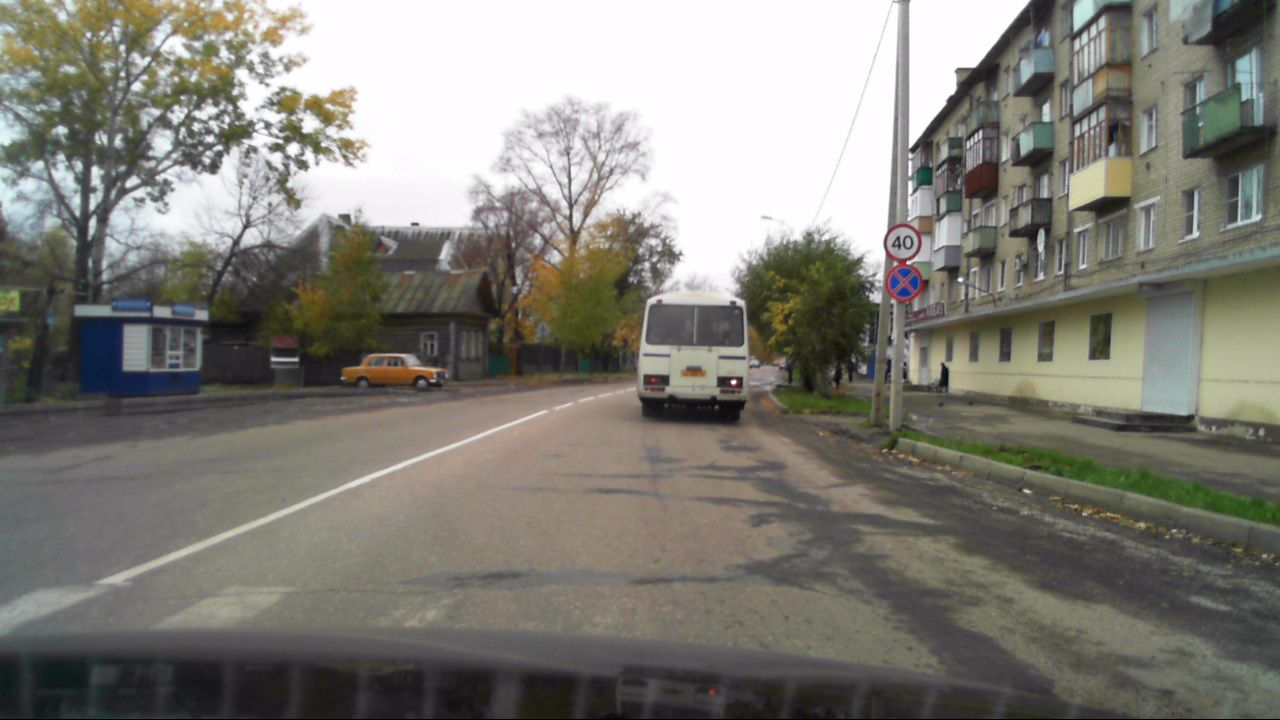No Parking: (883, 264, 924, 305)
speed_warning_40: (882, 223, 923, 263)
